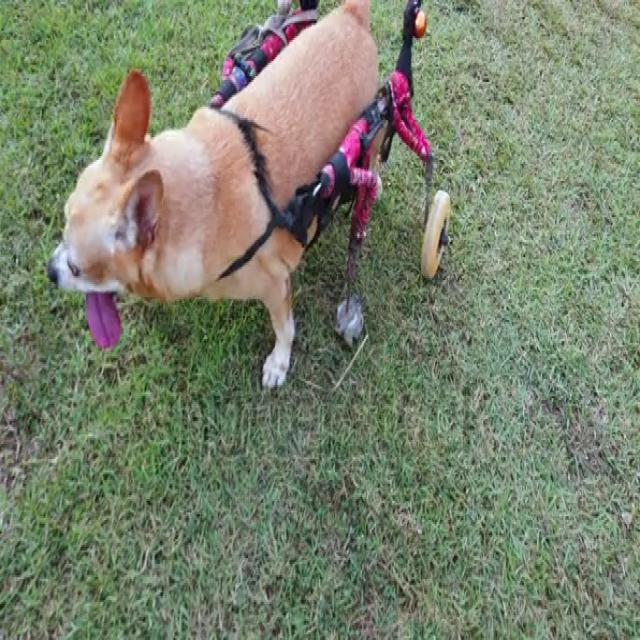injured-animals: (19, 24, 535, 374), (82, 17, 461, 364), (240, 14, 510, 312)
